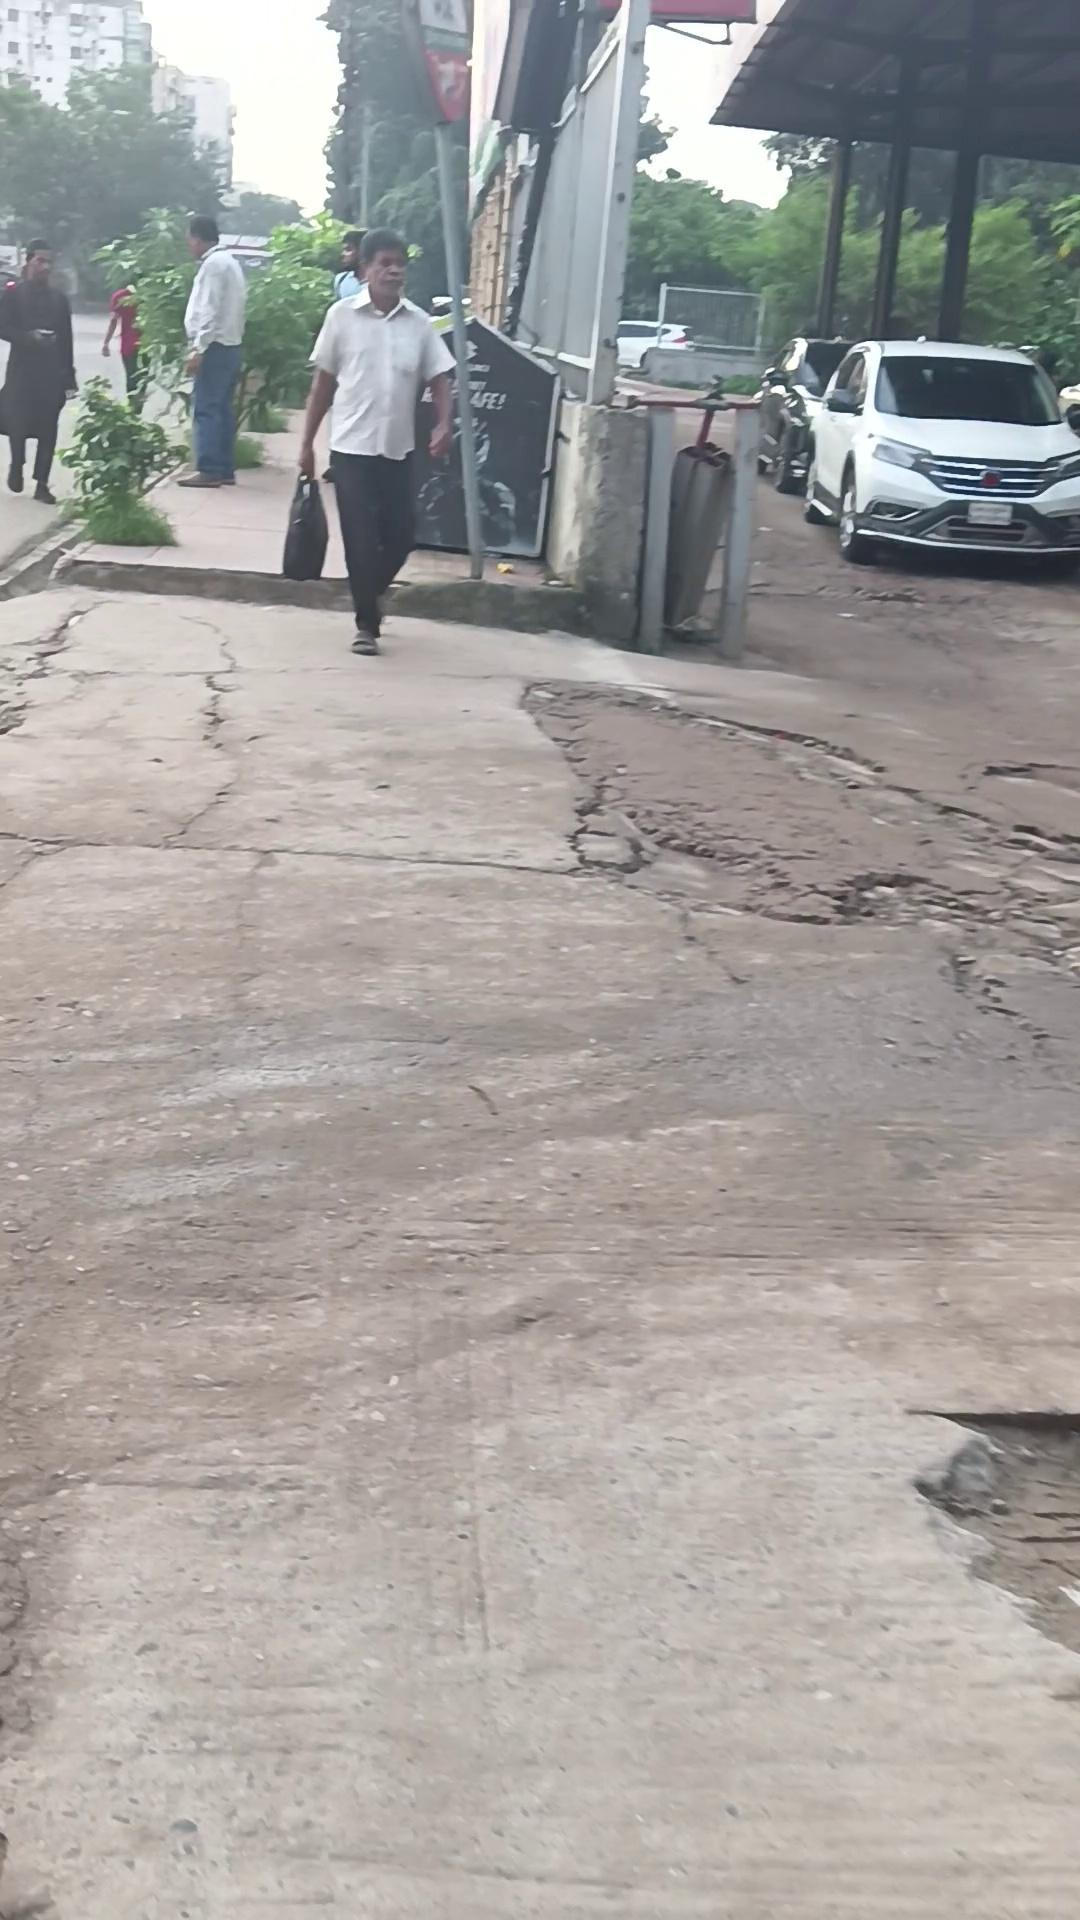Broken-road: (0, 516, 1080, 1920)
Car: (800, 335, 1080, 566), (613, 318, 695, 373)
Cat: (410, 315, 560, 560)
Crosswalk: (53, 553, 596, 636)
Motorcycle: (546, 384, 764, 659)
Muddy road: (295, 227, 458, 655), (0, 237, 78, 504), (175, 214, 247, 487), (102, 284, 144, 411), (331, 229, 367, 301)
Obstacle: (431, 120, 487, 579)
